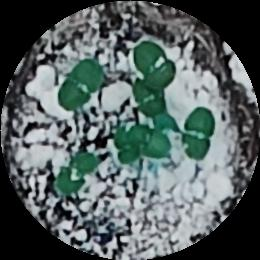Basil: (61, 60, 101, 110), (58, 154, 99, 195), (137, 42, 174, 85), (130, 127, 173, 157), (187, 108, 210, 156), (134, 83, 159, 118), (120, 128, 141, 164)
